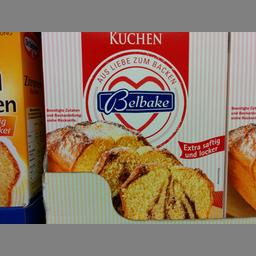cake: (40, 31, 227, 218)
